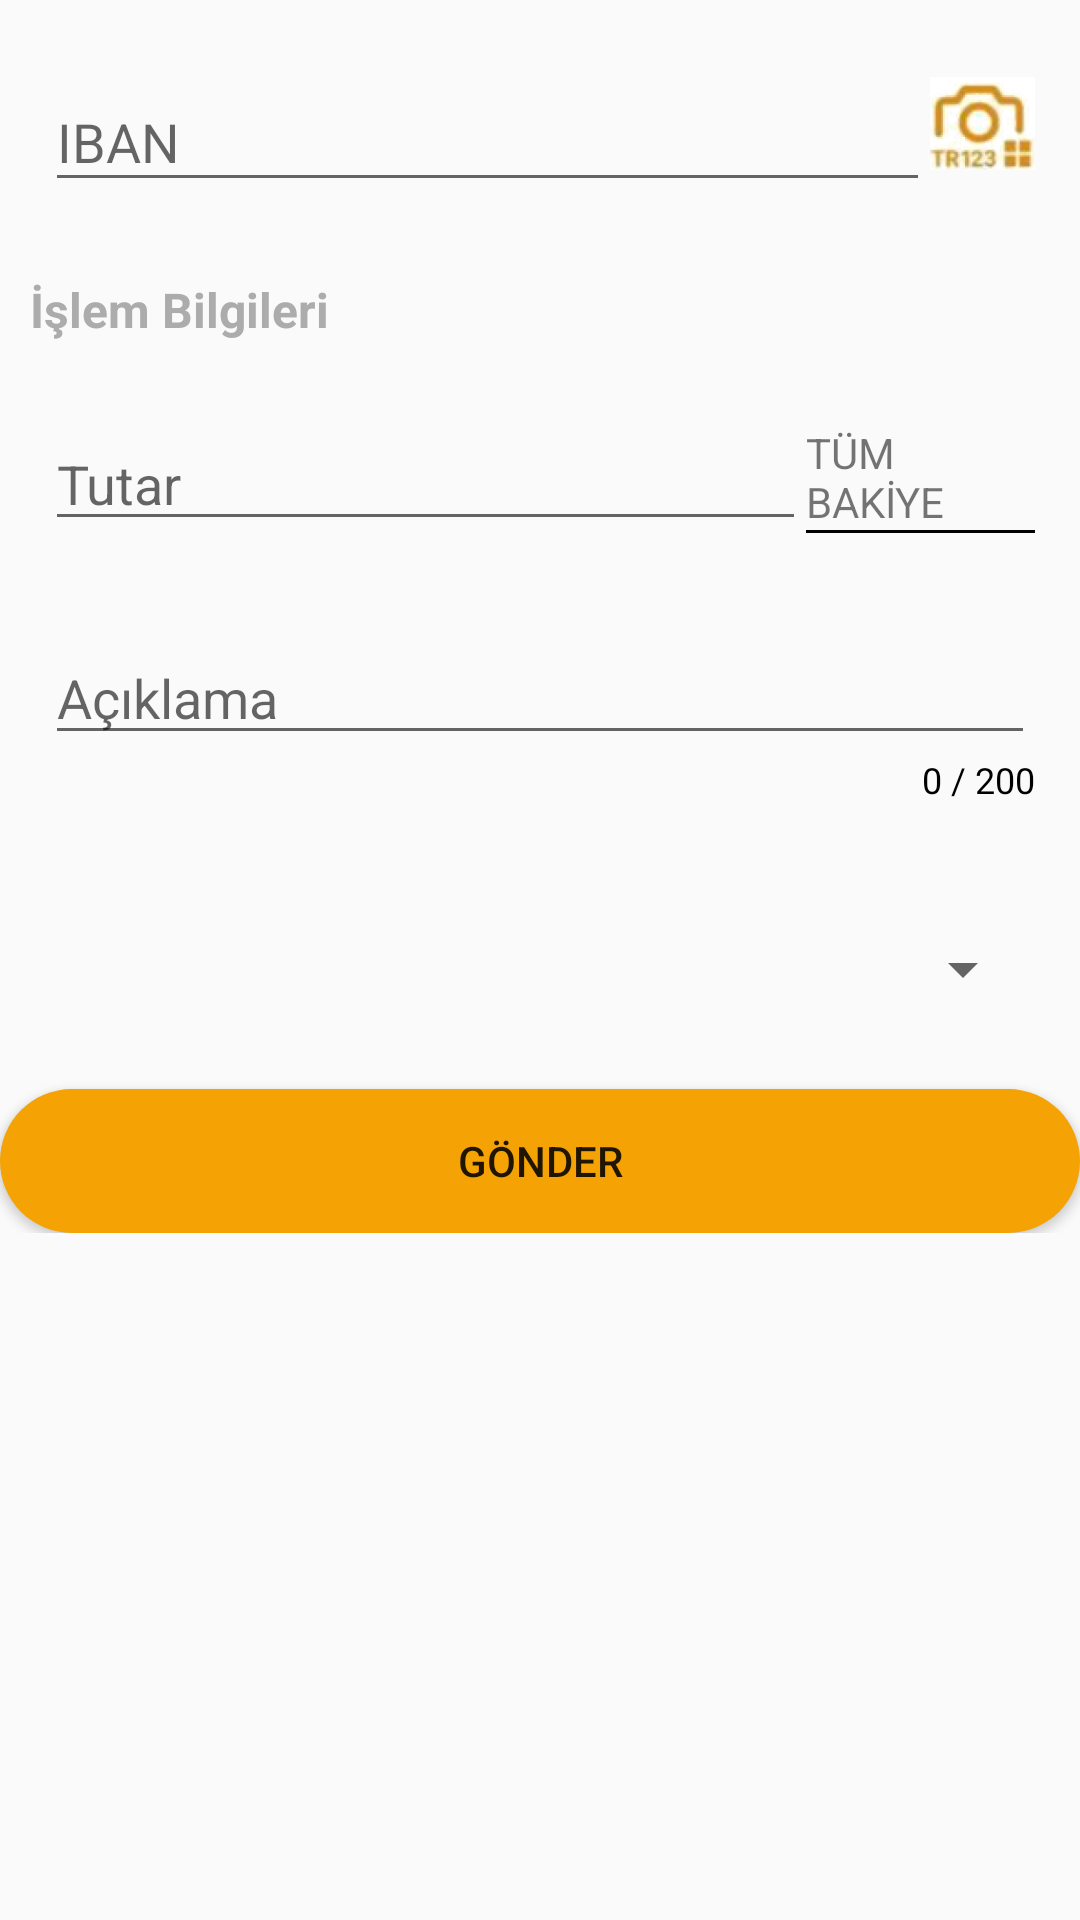

Screen size 1080x1920. Icon name, then its center in pixels as (x=x, y=y):
photo: (x=982, y=126)
